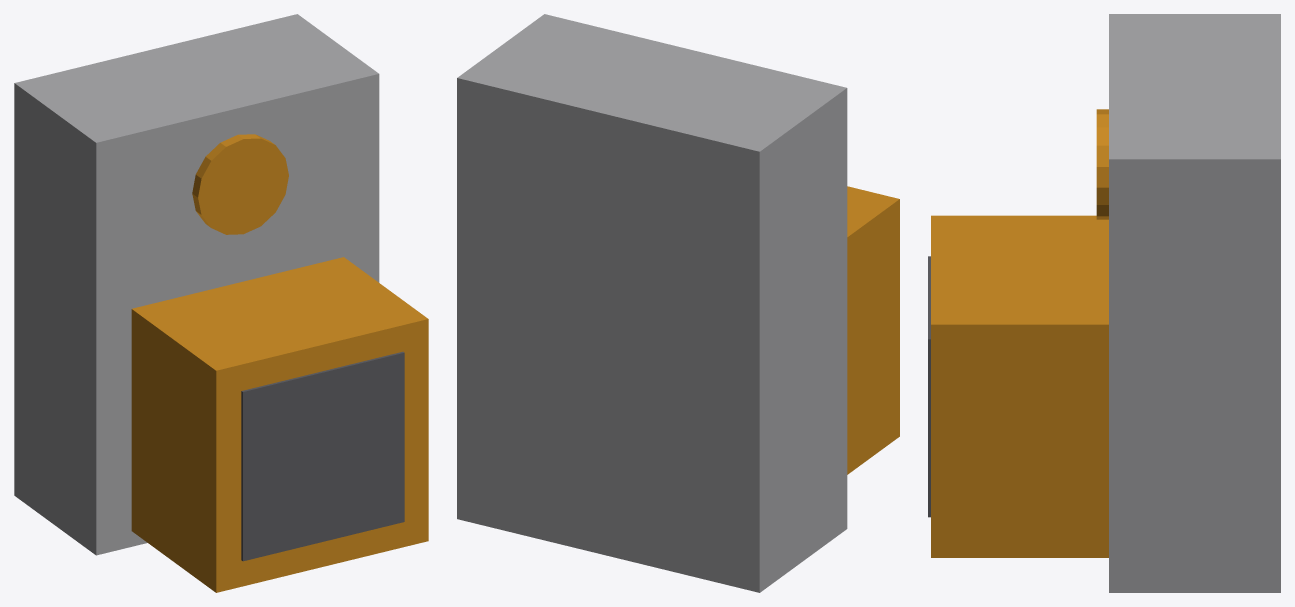
File: vge_e_oxygen_pump.obj
3 renders of one model, left to right at view 1: azimuth 30°, elevation 25°; view 2: azimuth 150°, elevation 25°; view 3: azimuth 270°, elevation 25°, orthographic. The views are drawn at different scales.
Parts seen in each view (by area): view 1: vge_oxygen_pump_0, hood, hood_inside, vge_oxygen_pump_1; view 2: vge_oxygen_pump_0, hood; view 3: vge_oxygen_pump_0, hood, vge_oxygen_pump_1, hood_inside.
Boxes of the visible parts, x1,y1,x2,y2 form: vge_oxygen_pump_0: [14, 14, 379, 555]; hood: [131, 257, 428, 592]; hood_inside: [241, 351, 404, 561]; vge_oxygen_pump_1: [192, 134, 288, 234]; vge_oxygen_pump_0: [457, 14, 847, 592]; hood: [847, 186, 899, 474]; vge_oxygen_pump_0: [1109, 14, 1280, 592]; hood: [931, 215, 1108, 557]; vge_oxygen_pump_1: [1096, 109, 1108, 219]; hood_inside: [928, 256, 930, 517].
Bounding box in the file's own units: 0.56 × 0.78 × 0.575.
